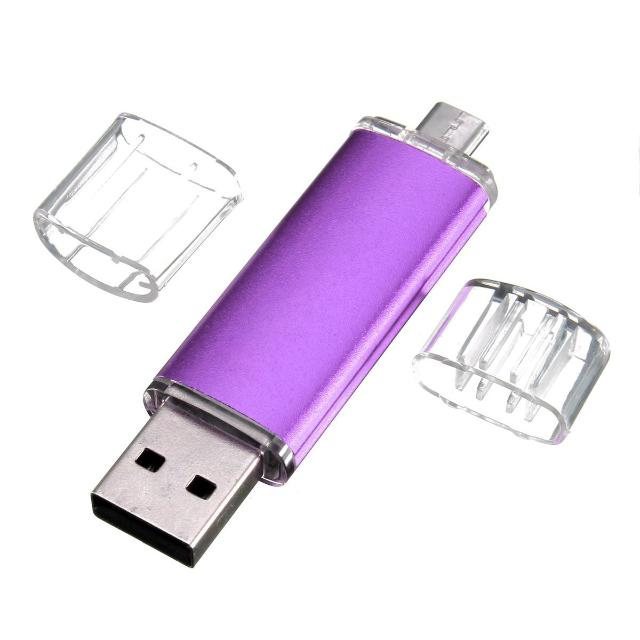USB-Flash-Drive: (26, 77, 608, 578)
